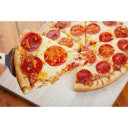pepperonipizza: (17, 21, 128, 90)
